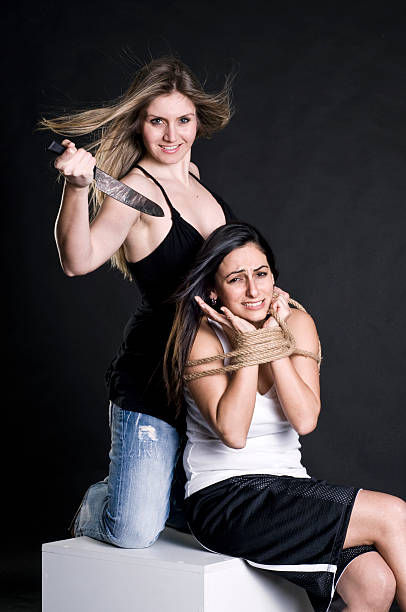knife: (46, 139, 165, 219)
